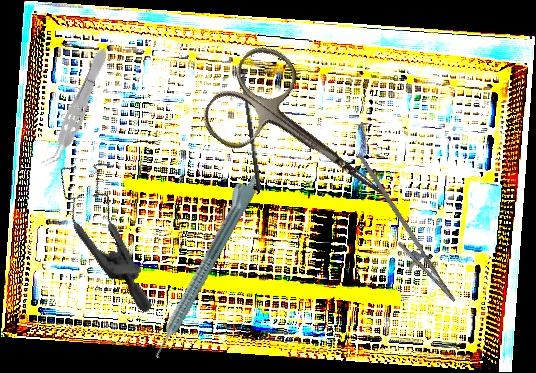Handpiece: (142, 168, 263, 361)
Iris Scissors: (194, 36, 418, 242)
Needle Holder: (331, 154, 473, 311)
Speculum: (19, 144, 204, 314)
Surgical Spoon: (240, 68, 262, 191)
Tissue Forceps: (40, 43, 114, 174)
